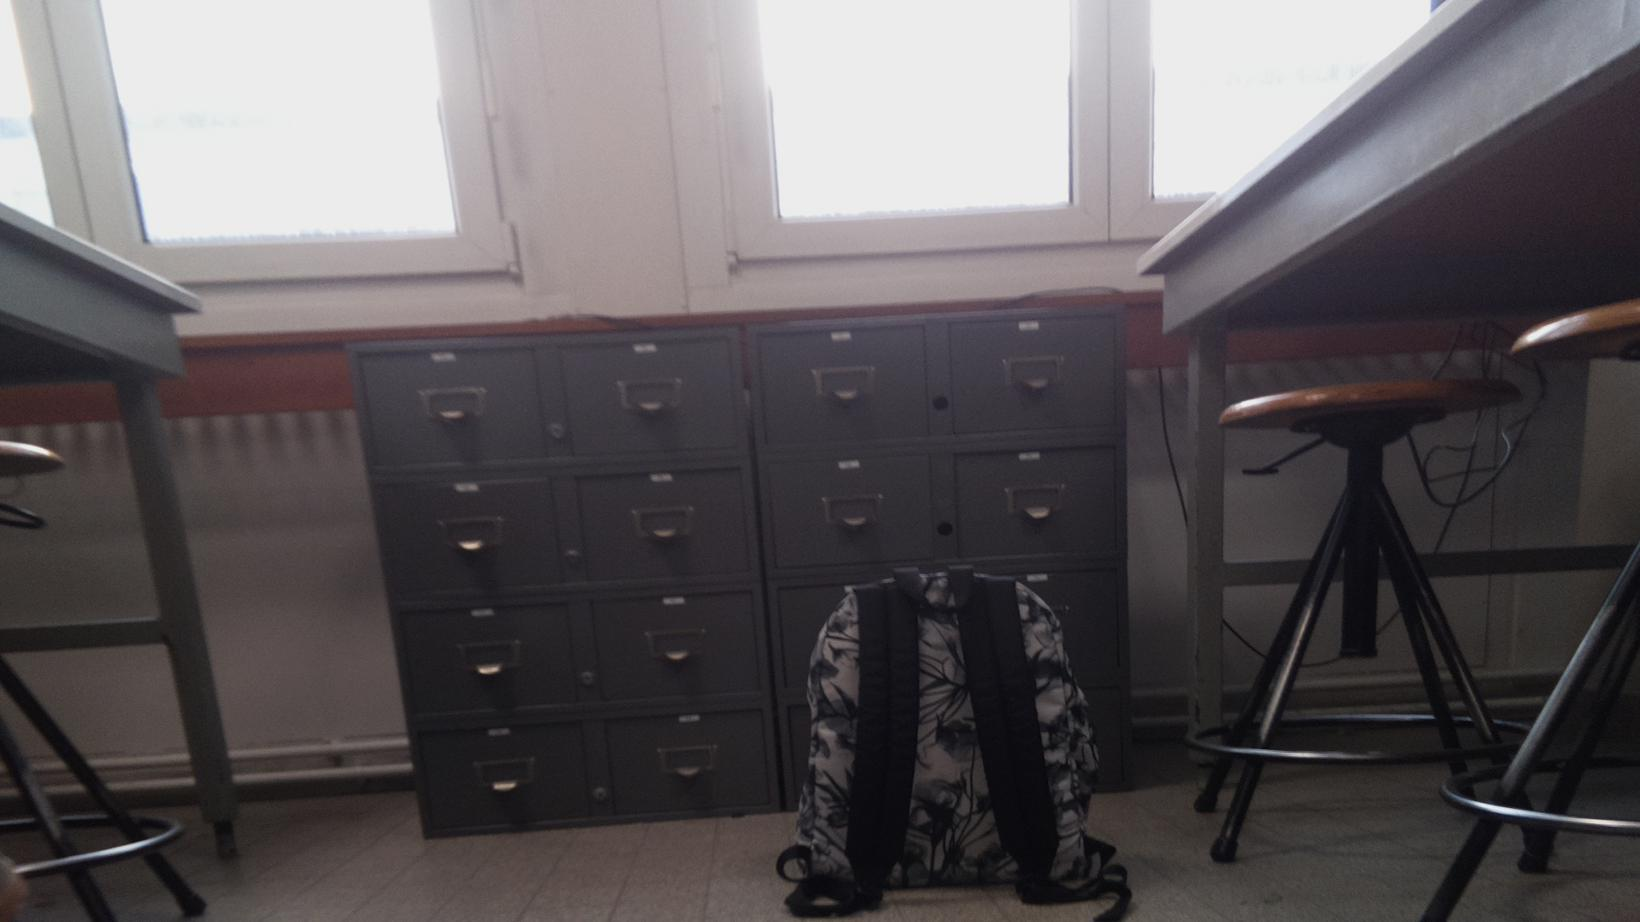big: (803, 565, 1100, 892)
